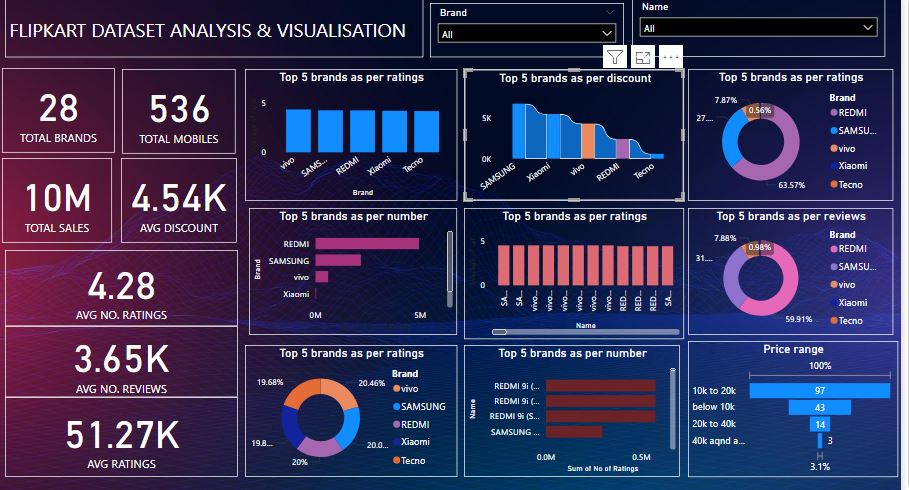

What the dashboard file says about the page in this screenshot:
{"tool":"powerbi","page":{"name":"Page 1","canvas":[1280,720],"ordinal":0},"visuals":[{"type":"textbox","box":[9.4,0,592.9,87.1],"z":0},{"type":"card","fields":{"Values":["Flipkart.Total brands"]},"box":[5.7,102.1,160.2,120.5],"z":1000},{"type":"card","fields":{"Values":["Flipkart.Total mobiles"]},"box":[175.3,103.5,161.2,120],"z":2000},{"type":"card","fields":{"Values":["Flipkart.Total sales"]},"box":[5.7,229.6,155.9,120.5],"z":3000},{"type":"card","fields":{"Values":["Flipkart.Average no of reviews"]},"box":[9.9,467.8,330.3,100.6],"z":4000},{"type":"card","fields":{"Values":["Avg(Flipkart.Total discount)"]},"box":[174.4,229.6,164.4,120.5],"z":5000},{"type":"card","fields":{"Values":["Flipkart.Average of ratings"]},"box":[9.9,360,330.3,107.7],"z":6000},{"type":"card","fields":{"Values":["Flipkart.Average No. of Ratings"]},"box":[9.9,568.4,330.3,113.4],"z":7000},{"type":"columnChart","title":"Top 5 brands as per ratings","fields":{"Category":["Flipkart.Brand"],"Y":["Flipkart.Average of ratings"]},"box":[350.1,103.5,300.5,187.1],"z":8000},{"type":"barChart","title":"Top 5 brands as per number","fields":{"Category":["Flipkart.Brand"],"Y":["Sum(Flipkart.No of Ratings)"]},"box":[355.8,300.5,294.8,180],"z":9000},{"type":"donutChart","title":"Top 5 brands as per ratings","fields":{"Category":["Flipkart.Brand"],"Y":["Flipkart.Average of ratings"]},"box":[350.1,494.7,300.5,187.1],"z":10000},{"type":"ribbonChart","title":"Top 5 brands as per discount","fields":{"Category":["Flipkart.Brand"],"Y":["Avg(Flipkart.Total discount)"]},"box":[660.6,103.5,311.8,187.1],"z":11000},{"type":"columnChart","title":"Top 5 brands as per ratings","fields":{"Y":["Flipkart.Average of ratings"],"Category":["Flipkart.Name"]},"box":[660.6,300.5,311.8,185.7],"z":12000},{"type":"barChart","title":"Top 5 brands as per number","fields":{"Y":["Sum(Flipkart.No of Ratings)"],"Category":["Flipkart.Name"]},"box":[660.6,494.7,306.2,187.1],"z":13000},{"type":"donutChart","title":"Top 5 brands as per ratings","fields":{"Category":["Flipkart.Brand"],"Y":["Sum(Flipkart.No of Ratings)"]},"box":[978.1,103.5,290.6,187.1],"z":14000},{"type":"donutChart","title":"Top 5 brands as per reviews","fields":{"Category":["Flipkart.Brand"],"Y":["Sum(Flipkart.No of Reviews)"]},"box":[978.1,300.5,290.6,180],"z":15000},{"type":"funnel","title":"Price range","fields":{"Category":["Flipkart.Price range"],"Y":["CountNonNull(Flipkart.Brand)"]},"box":[978.1,489,297.7,192.8],"z":16000},{"type":"slicer","fields":{"Values":["Flipkart.Brand"]},"box":[612.4,9.9,275,76.5],"z":17000},{"type":"slicer","fields":{"Values":["Flipkart.Name"]},"box":[898.7,1.4,358.6,85],"z":18000}]}

Visuals, with their boxes in screenshot pixels (x1, y1, x2, y2):
textbox: box(9, 0, 421, 58)
card - Flipkart.Total brands: box(6, 69, 118, 153)
card - Flipkart.Total mobiles: box(124, 70, 237, 153)
card - Flipkart.Total sales: box(6, 157, 115, 241)
card - Flipkart.Average no of reviews: box(9, 323, 239, 393)
card - Avg(Flipkart.Total discount): box(124, 157, 238, 241)
card - Flipkart.Average of ratings: box(9, 248, 239, 323)
card - Flipkart.Average No. of Ratings: box(9, 393, 239, 472)
"Top 5 brands as per ratings" columnChart: box(246, 70, 455, 200)
"Top 5 brands as per number" barChart: box(250, 207, 455, 332)
"Top 5 brands as per ratings" donutChart: box(246, 342, 455, 472)
"Top 5 brands as per discount" ribbonChart: box(462, 70, 679, 200)
"Top 5 brands as per ratings" columnChart: box(462, 207, 679, 336)
"Top 5 brands as per number" barChart: box(462, 342, 675, 472)
"Top 5 brands as per ratings" donutChart: box(683, 70, 885, 200)
"Top 5 brands as per reviews" donutChart: box(683, 207, 885, 332)
"Price range" funnel: box(683, 338, 890, 472)
slicer - Flipkart.Brand: box(428, 5, 620, 58)
slicer - Flipkart.Name: box(628, 0, 877, 58)
